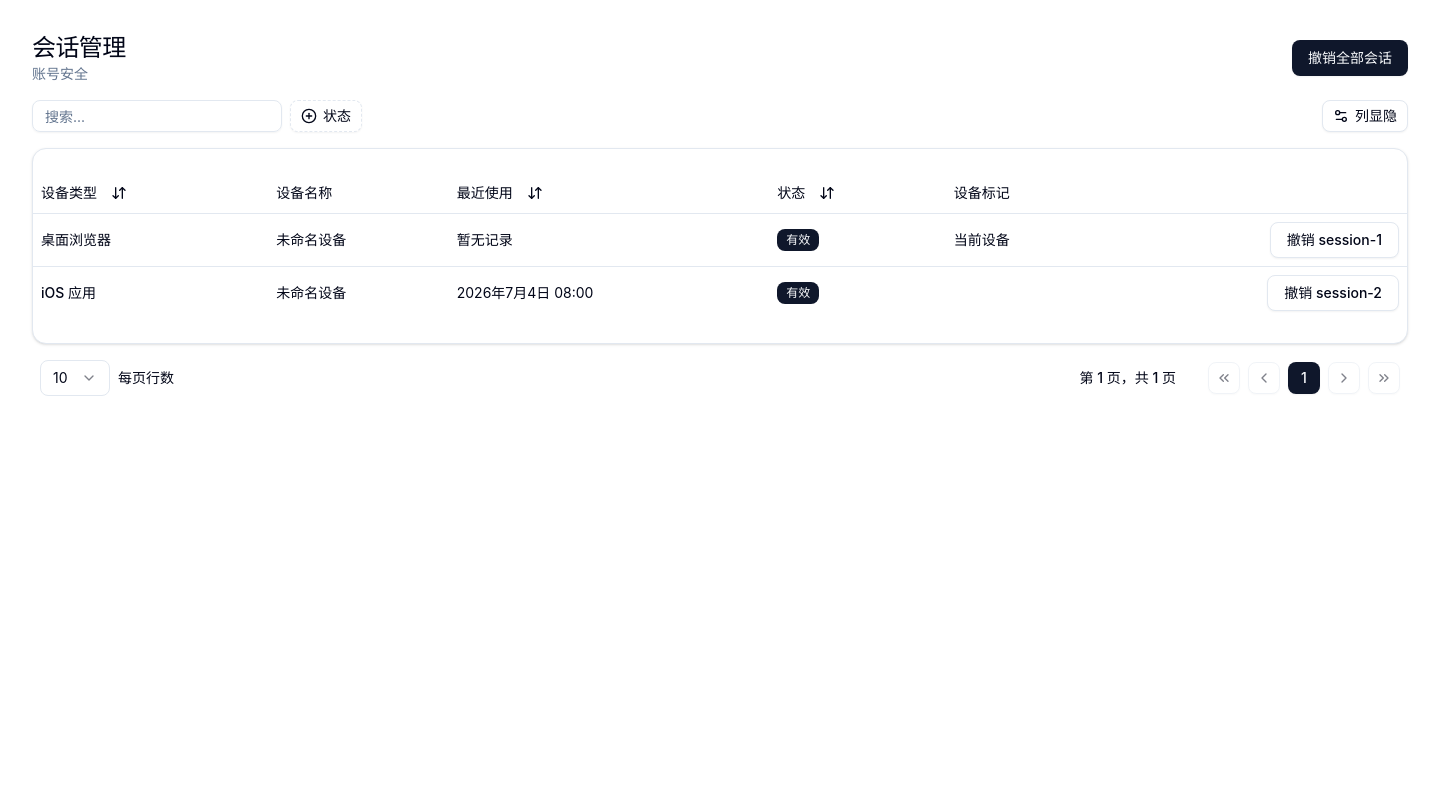
Test: SessionsPage › reports a successful revocation separately when refreshing the list fails
What coordinates should you click on to do the following:
click the button "撤销 session-2"
I would click on:
 (1333, 292)
Its box is top-left (1267, 274), bottom-right (1399, 310).
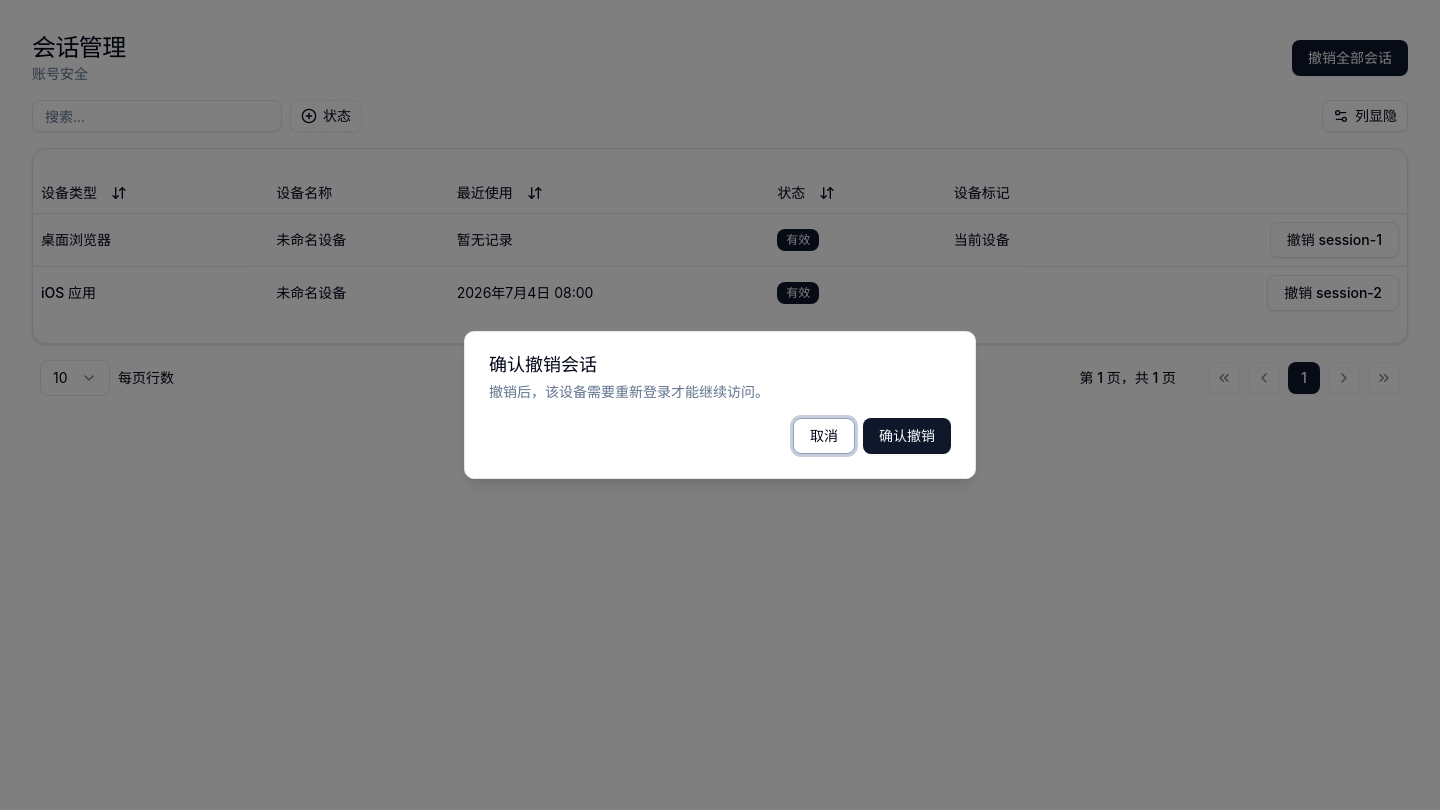
What coordinates should you click on to do the following:
click the button "确认撤销"
I would click on:
 (907, 436)
Its box is top-left (863, 418), bottom-right (951, 454).
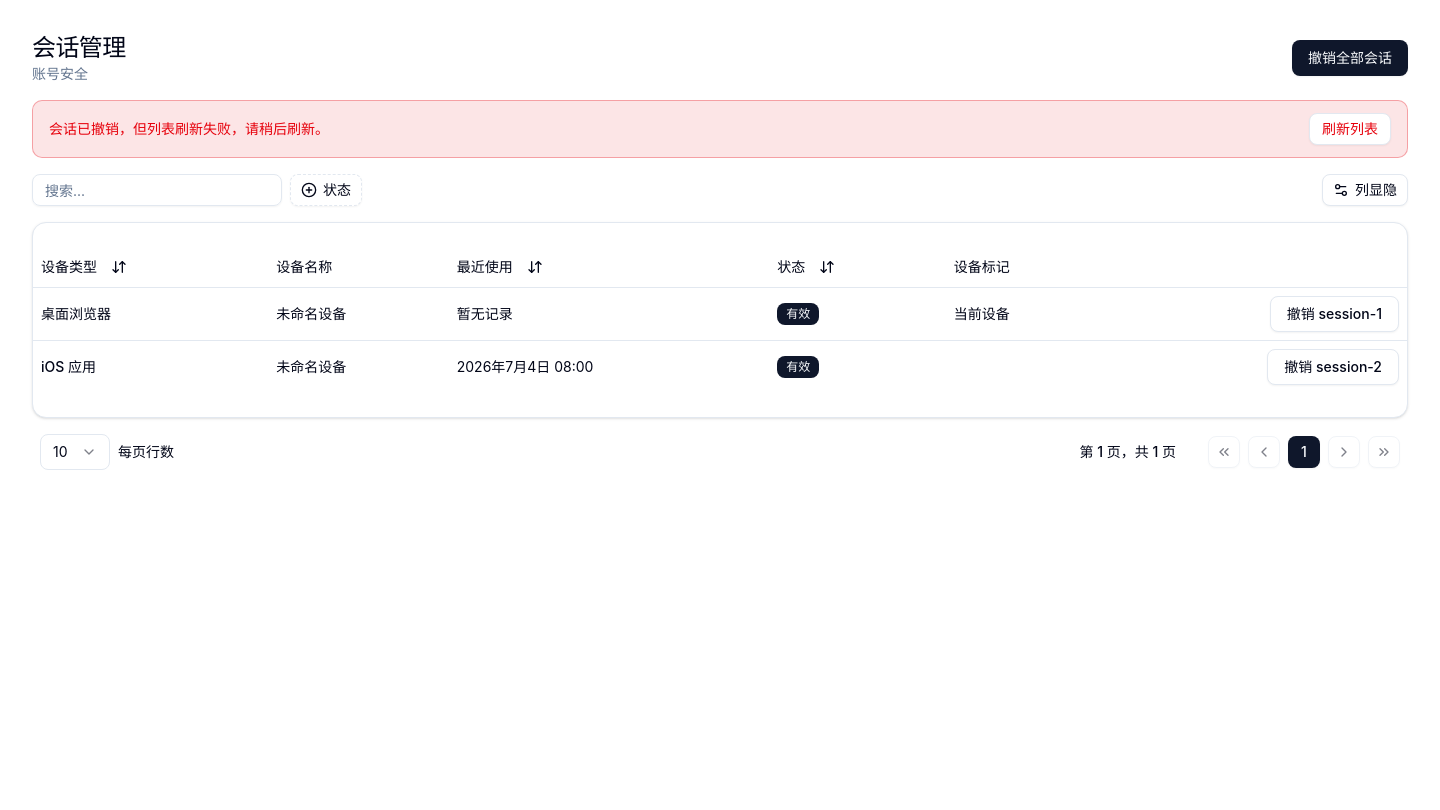
Result: the message shows "会话已撤销，但列表刷新失败，请稍后刷新。" at top-left (49, 120), bottom-right (329, 137)
Result: the button "刷新列表" is shown
What coordinates should you click on to do the following:
click the button "刷新列表"
I would click on:
 (1350, 129)
Its box is top-left (1309, 113), bottom-right (1391, 145).
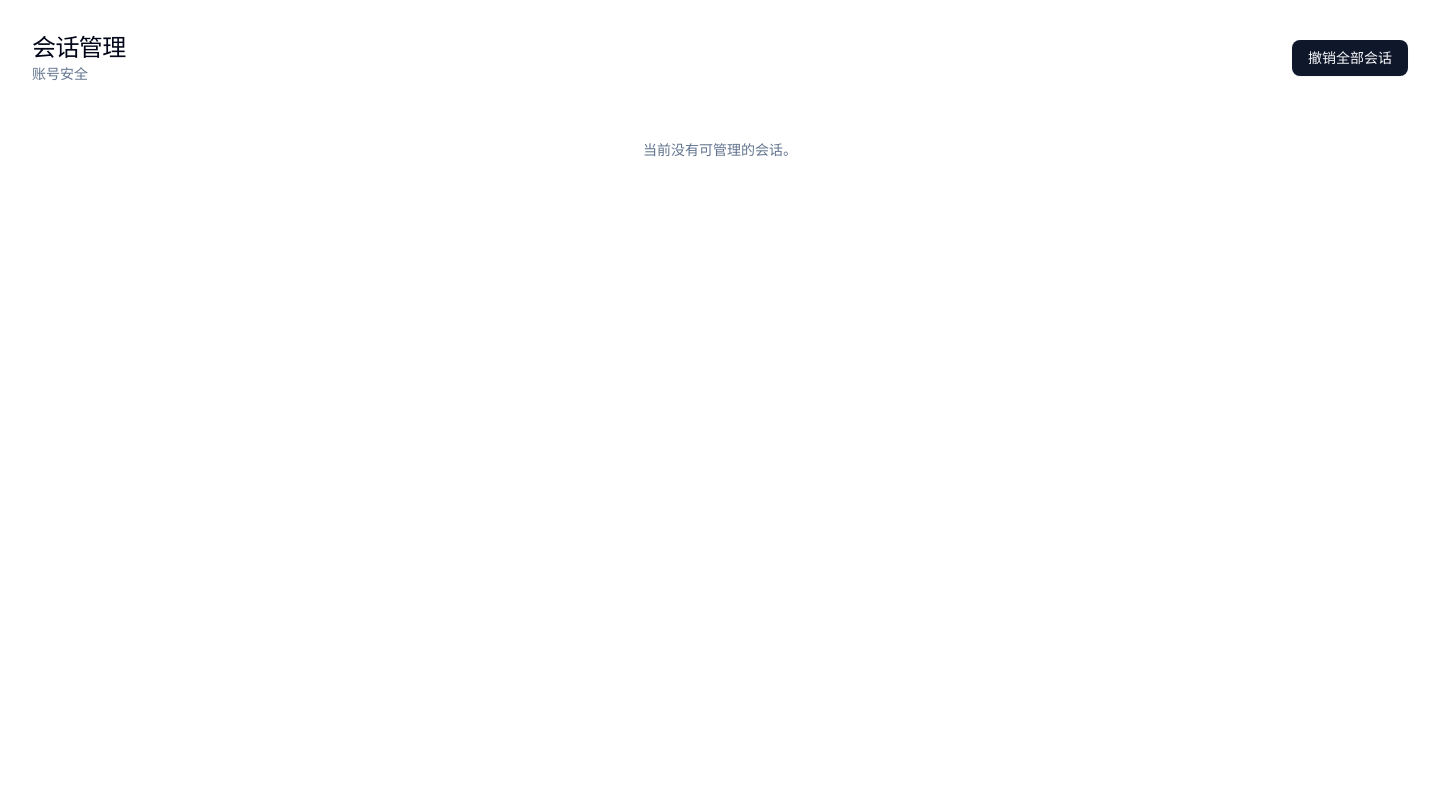
Result: the message "会话已撤销，但列表刷新失败，请稍后刷新。 刷新列表" is gone
